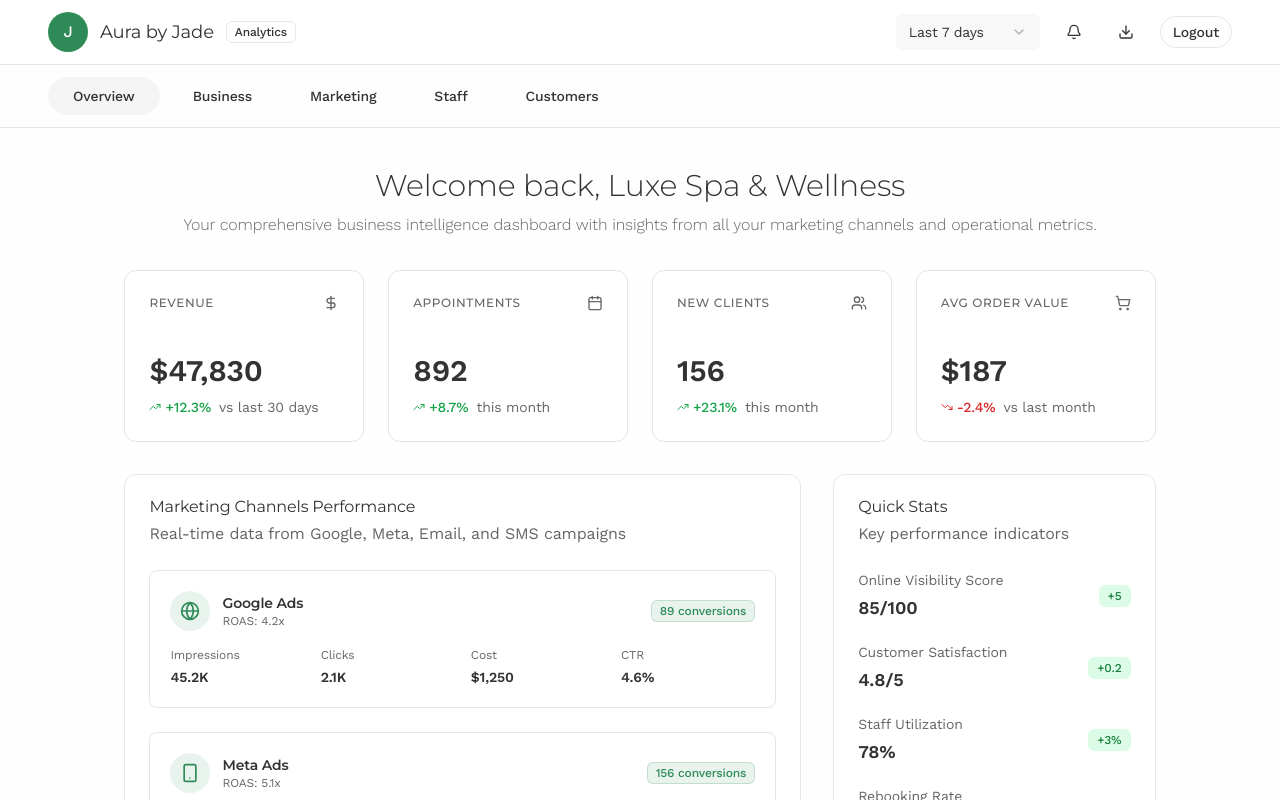
Test case: AuraPage › Business Metrics Tab › displays service performance details
The width and height of the screenshot is (1280, 800).
Click the tab "Business". click: x=222, y=96
box: left=168, top=77, right=277, bottom=115
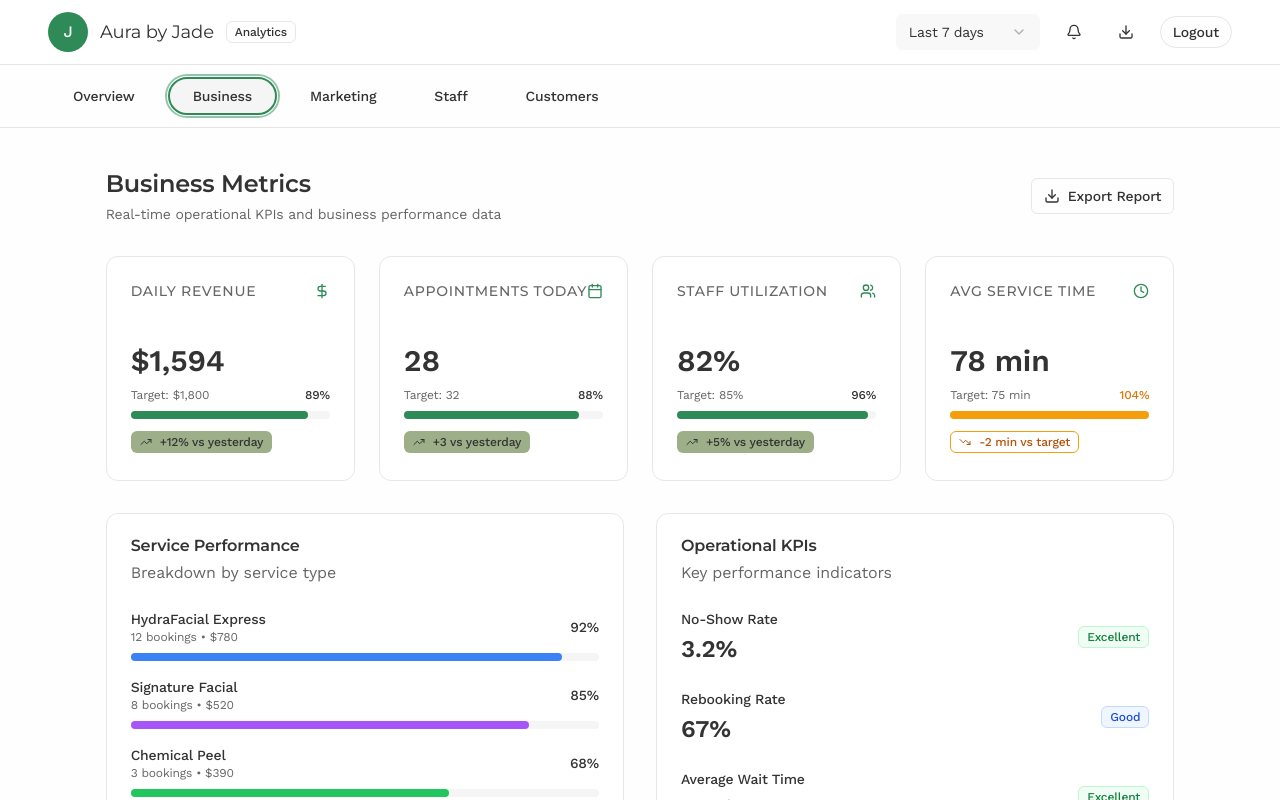
Expected: the text "12 bookings • $780" is shown, left=131, top=630, right=238, bottom=644
Expected: the text "8 bookings • $520" is shown, left=131, top=698, right=234, bottom=712
Expected: the text "3 bookings • $390" is shown, left=131, top=766, right=234, bottom=780
